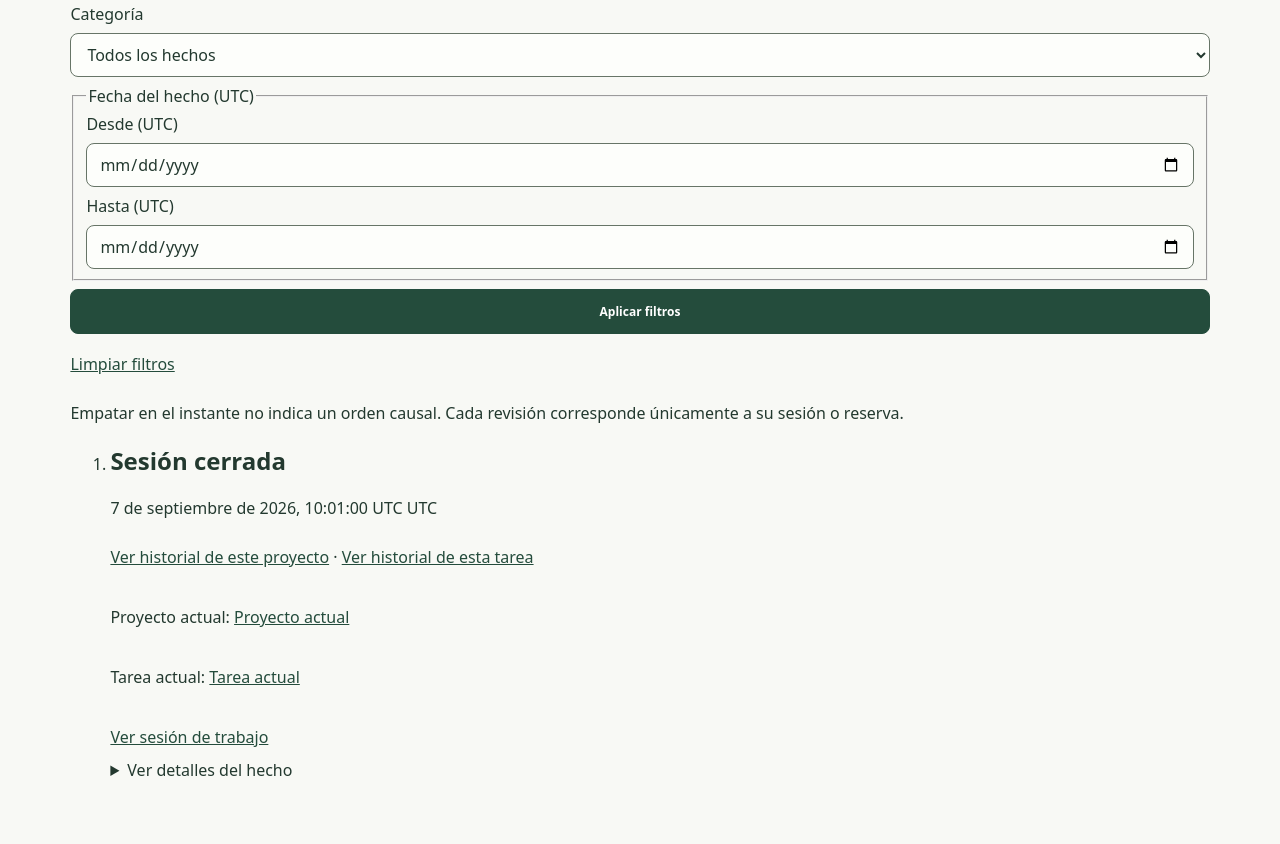
Test: @s33 expands a closed receipt as plain notes and its own persisted net and work date
The image size is (1280, 844).
(page scrolled)
Check: the heading "Sesión cerrada" is shown, box [110,444,286,477]
Click the heading "Ver detalles del hecho" at {"x": 210, "y": 770}, box [127,759,292,781]
(page scrolled)
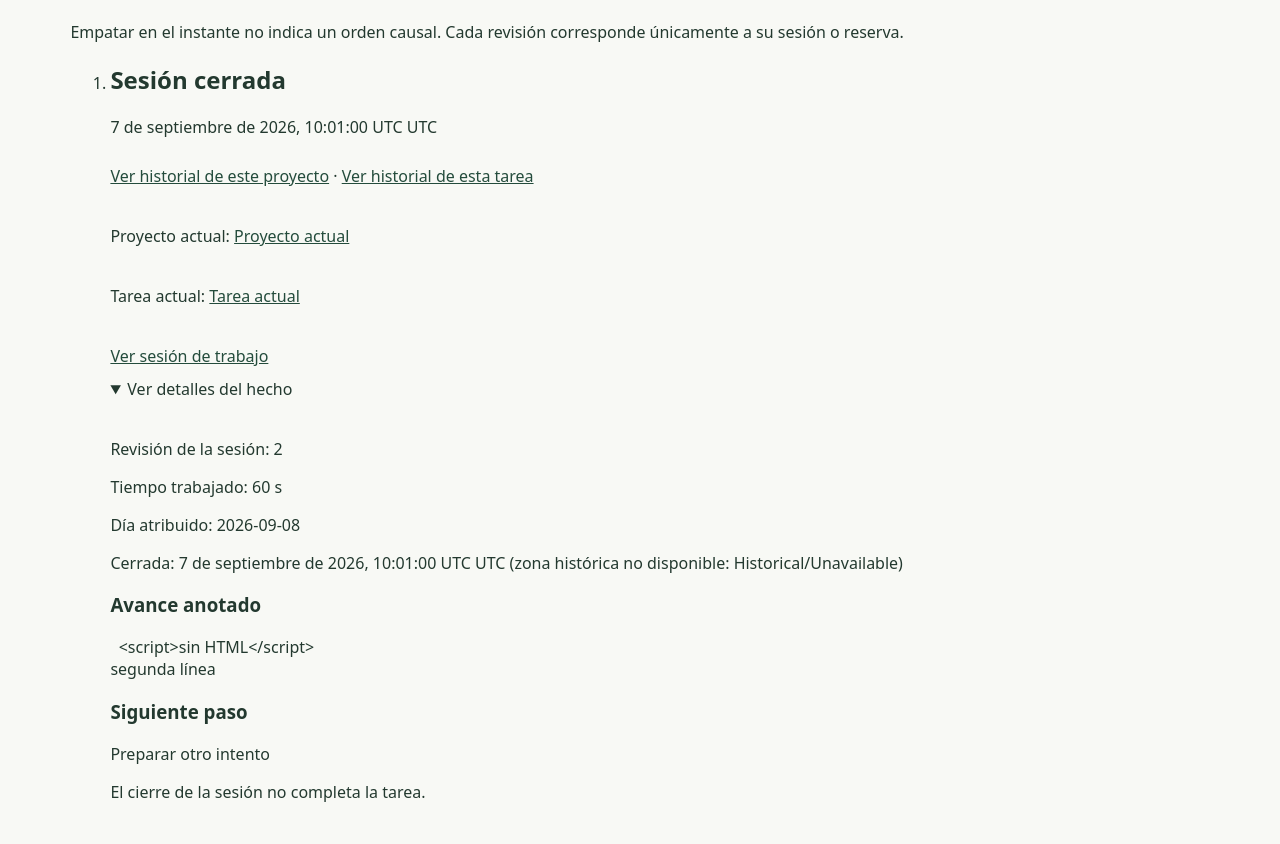
Check: the text "Tiempo trabajado: 60 s" is shown, box [110,476,282,498]
Check: the text "Día atribuido: 2026-09-08" is shown, box [110,514,300,536]
Check: the text "Preparar otro intento" is shown, box [110,743,270,765]
